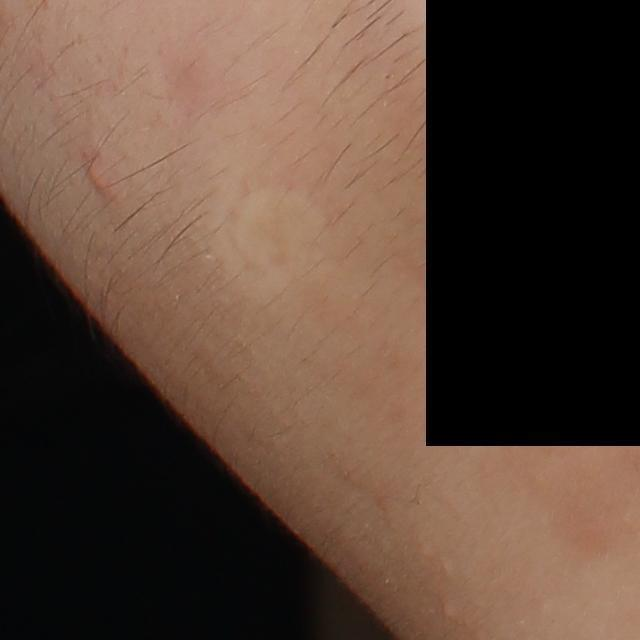papule: (79, 158, 117, 198)
